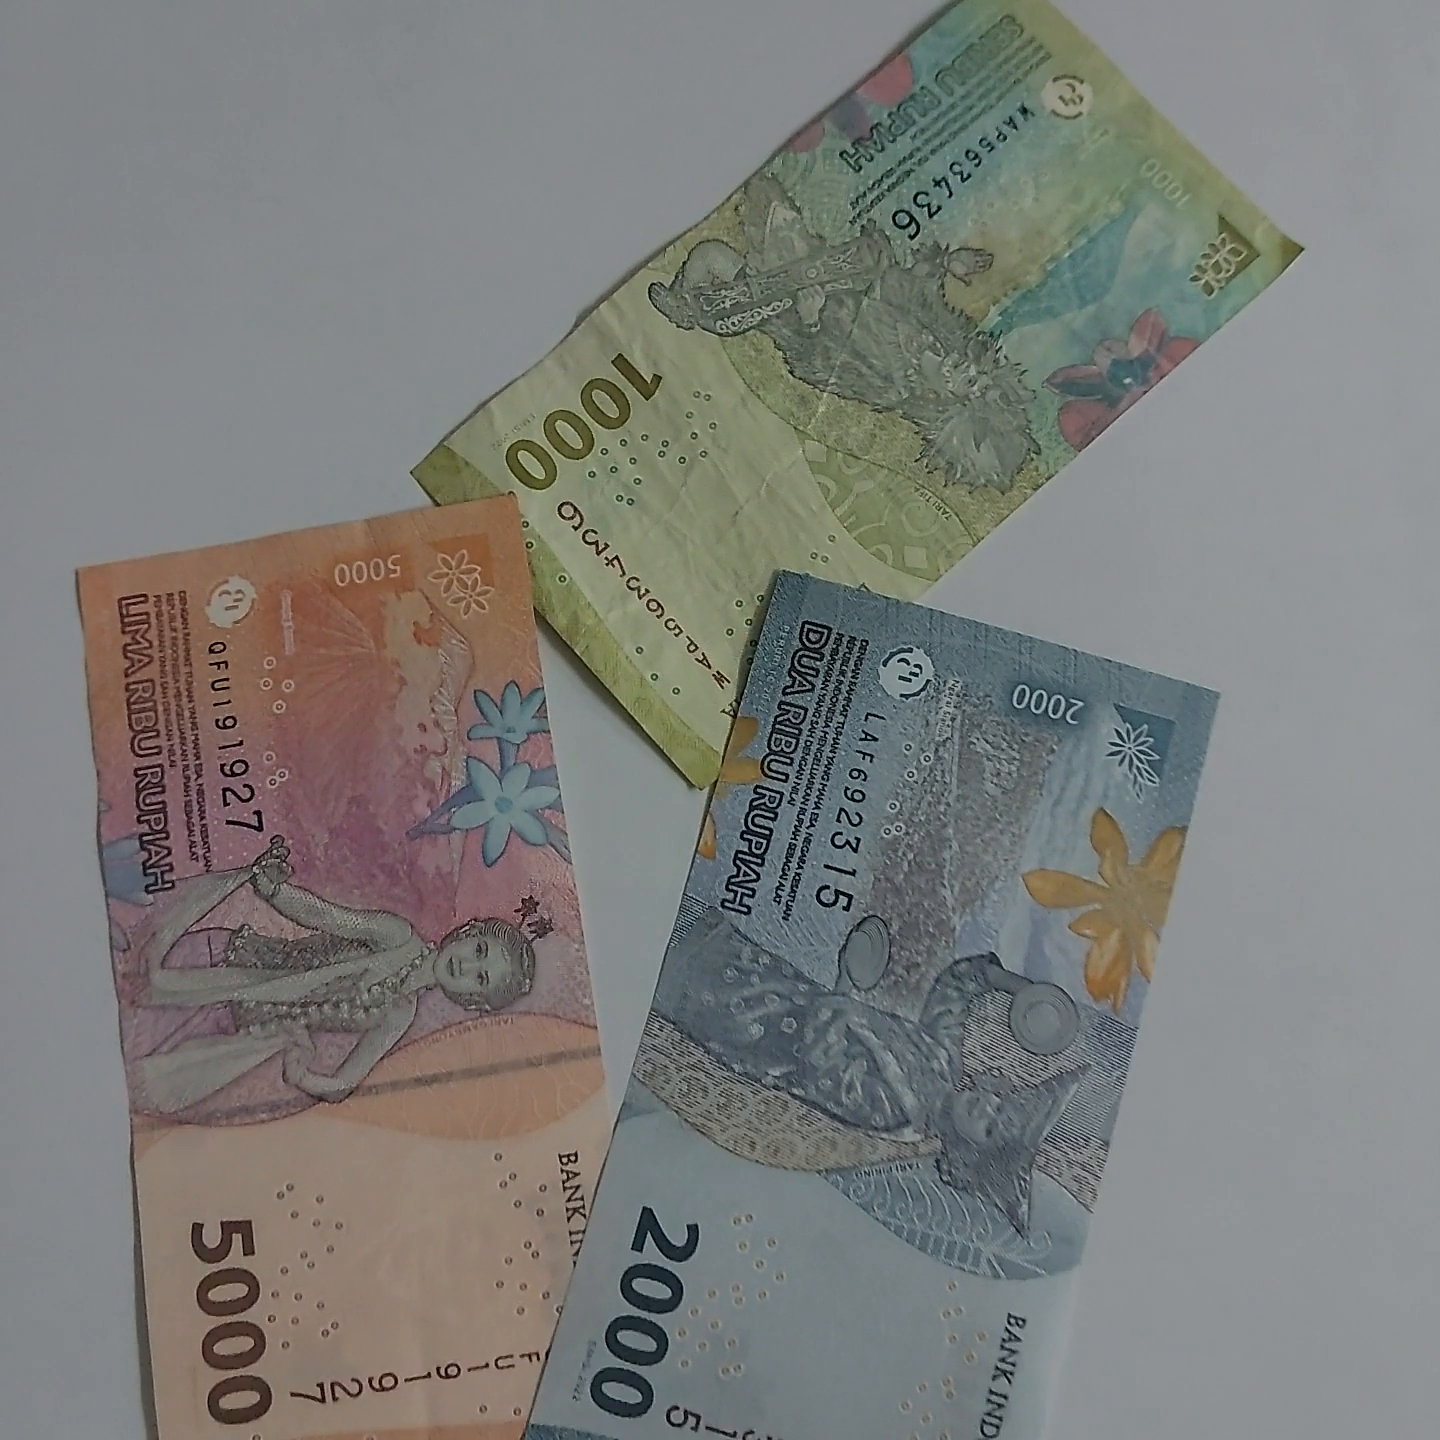1k: (451, 0, 1365, 825)
2k: (546, 555, 1234, 1440)
5k: (41, 525, 608, 1440)
